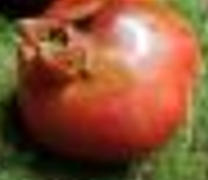pomegranate_B: (10, 1, 202, 166)
